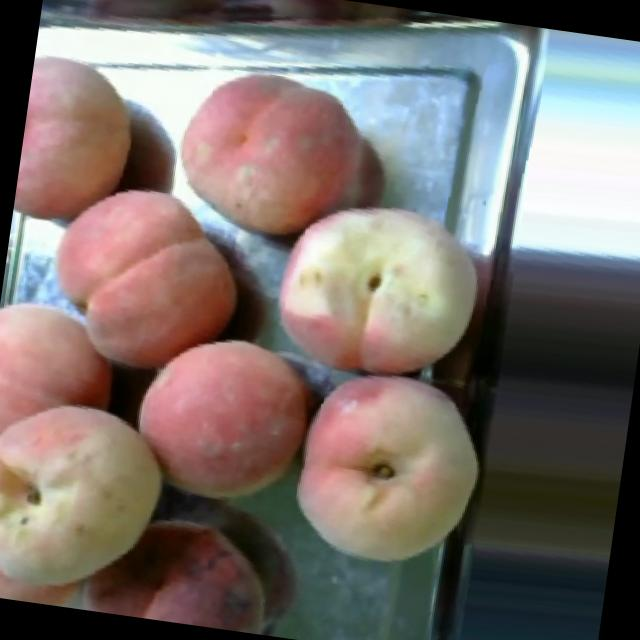Fruit: (154, 42, 410, 270), (26, 163, 265, 400), (250, 171, 498, 394), (271, 361, 497, 585), (116, 308, 336, 528), (0, 378, 189, 620), (62, 487, 298, 638), (10, 38, 154, 242), (0, 286, 129, 484)
